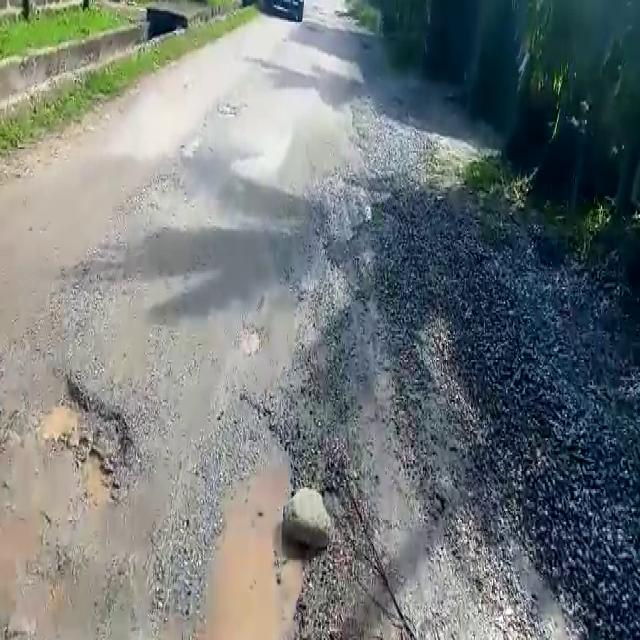Pothole: (195, 447, 312, 640), (42, 374, 136, 508)
